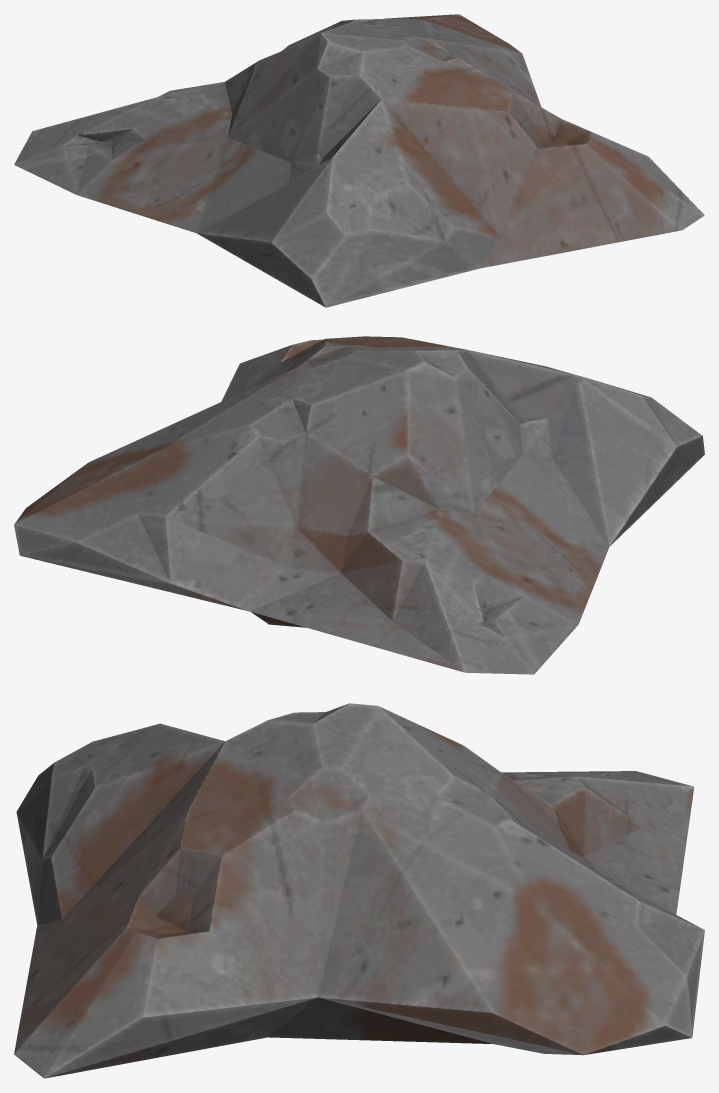
The model's file is IronJunkCast.glb.
3 renders of one model, top to bottom at view 1: azimuth 30°, elevation 25°; view 2: azimuth 150°, elevation 25°; view 3: azimuth 270°, elevation 25°, orthographic. The views are drawn at different scales.
Parts seen in each view (by area): view 1: IronJunkCast; view 2: IronJunkCast; view 3: IronJunkCast.
Part boxes in pixels (<box>): IronJunkCast: <box>14,14,704,307</box>; IronJunkCast: <box>14,336,704,674</box>; IronJunkCast: <box>14,703,704,1078</box>.
Size of the model in its own units: 0.5571 by 0.1926 by 0.5258.
1 material, 1 textured.
